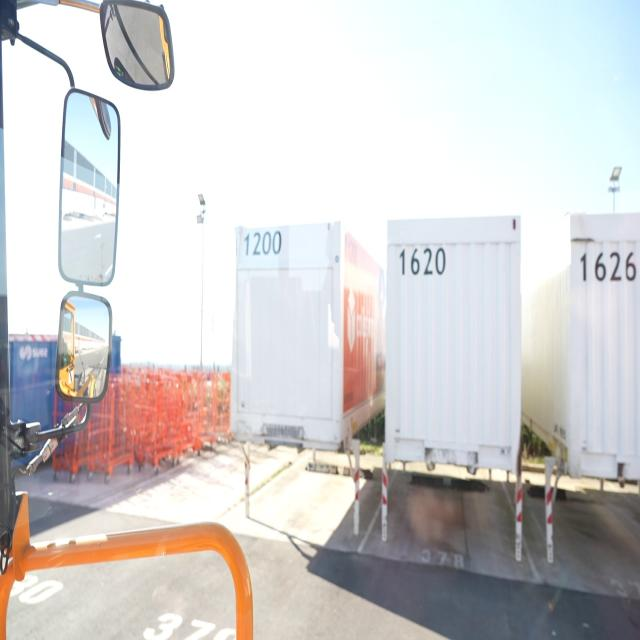Code: (576, 247, 638, 286), (396, 245, 448, 284), (242, 228, 286, 262)
